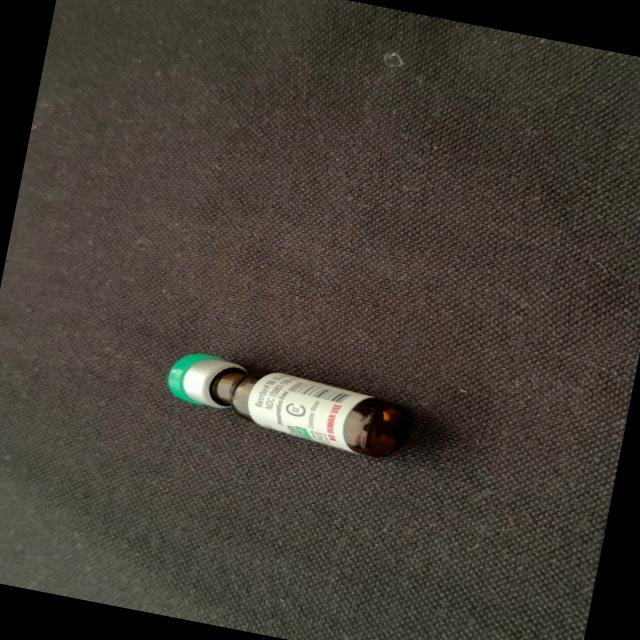midazolm: (165, 348, 410, 461)
